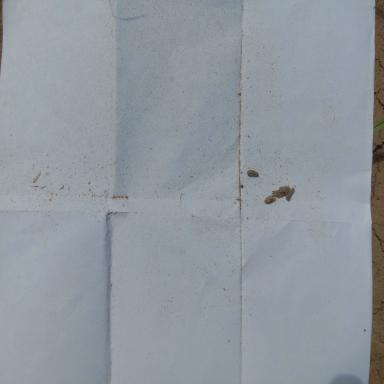pbw: (285, 187, 295, 199), (264, 195, 276, 204), (279, 185, 290, 194), (247, 169, 259, 177), (272, 190, 284, 197)
